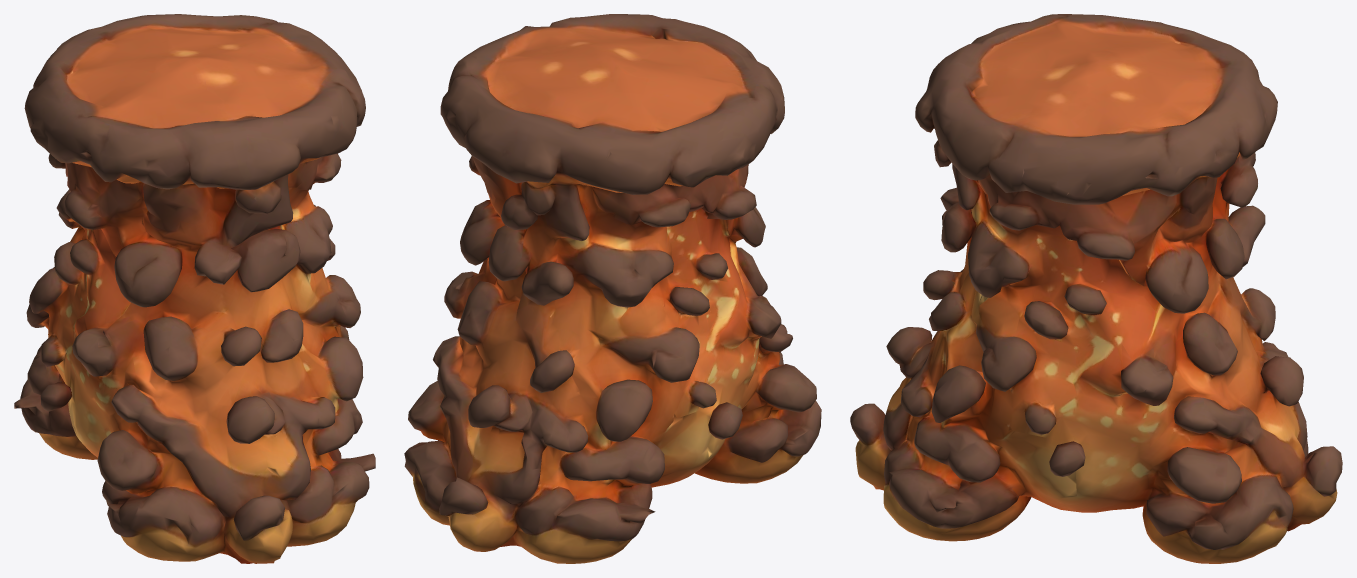
Rendered from body.glb.
3 renders of one model, left to right at view 1: azimuth 30°, elevation 25°; view 2: azimuth 150°, elevation 25°; view 3: azimuth 270°, elevation 25°, orthographic. The views are drawn at different scales.
Visible parts, largest first — view 1: tripo_node_7a6d8e6c-6688-4062-a2f2-dda3edc36a37; view 2: tripo_node_7a6d8e6c-6688-4062-a2f2-dda3edc36a37; view 3: tripo_node_7a6d8e6c-6688-4062-a2f2-dda3edc36a37.
Boxes of the visible parts, <box> form: tripo_node_7a6d8e6c-6688-4062-a2f2-dda3edc36a37: <box>14,14,375,563</box>; tripo_node_7a6d8e6c-6688-4062-a2f2-dda3edc36a37: <box>404,14,821,563</box>; tripo_node_7a6d8e6c-6688-4062-a2f2-dda3edc36a37: <box>850,14,1342,563</box>.
Bounding box in the file's own units: 0.7129 × 1 × 0.9906.
Materials: 1 (1 with a texture image).
